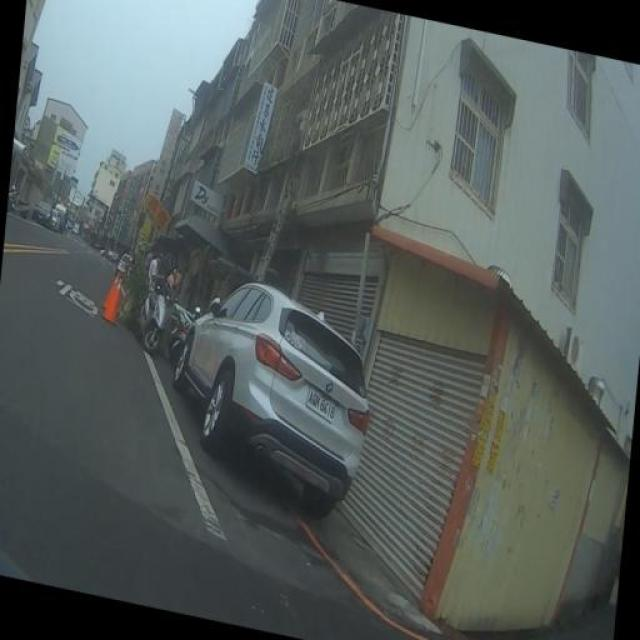illegalparking: (141, 276, 411, 519)
